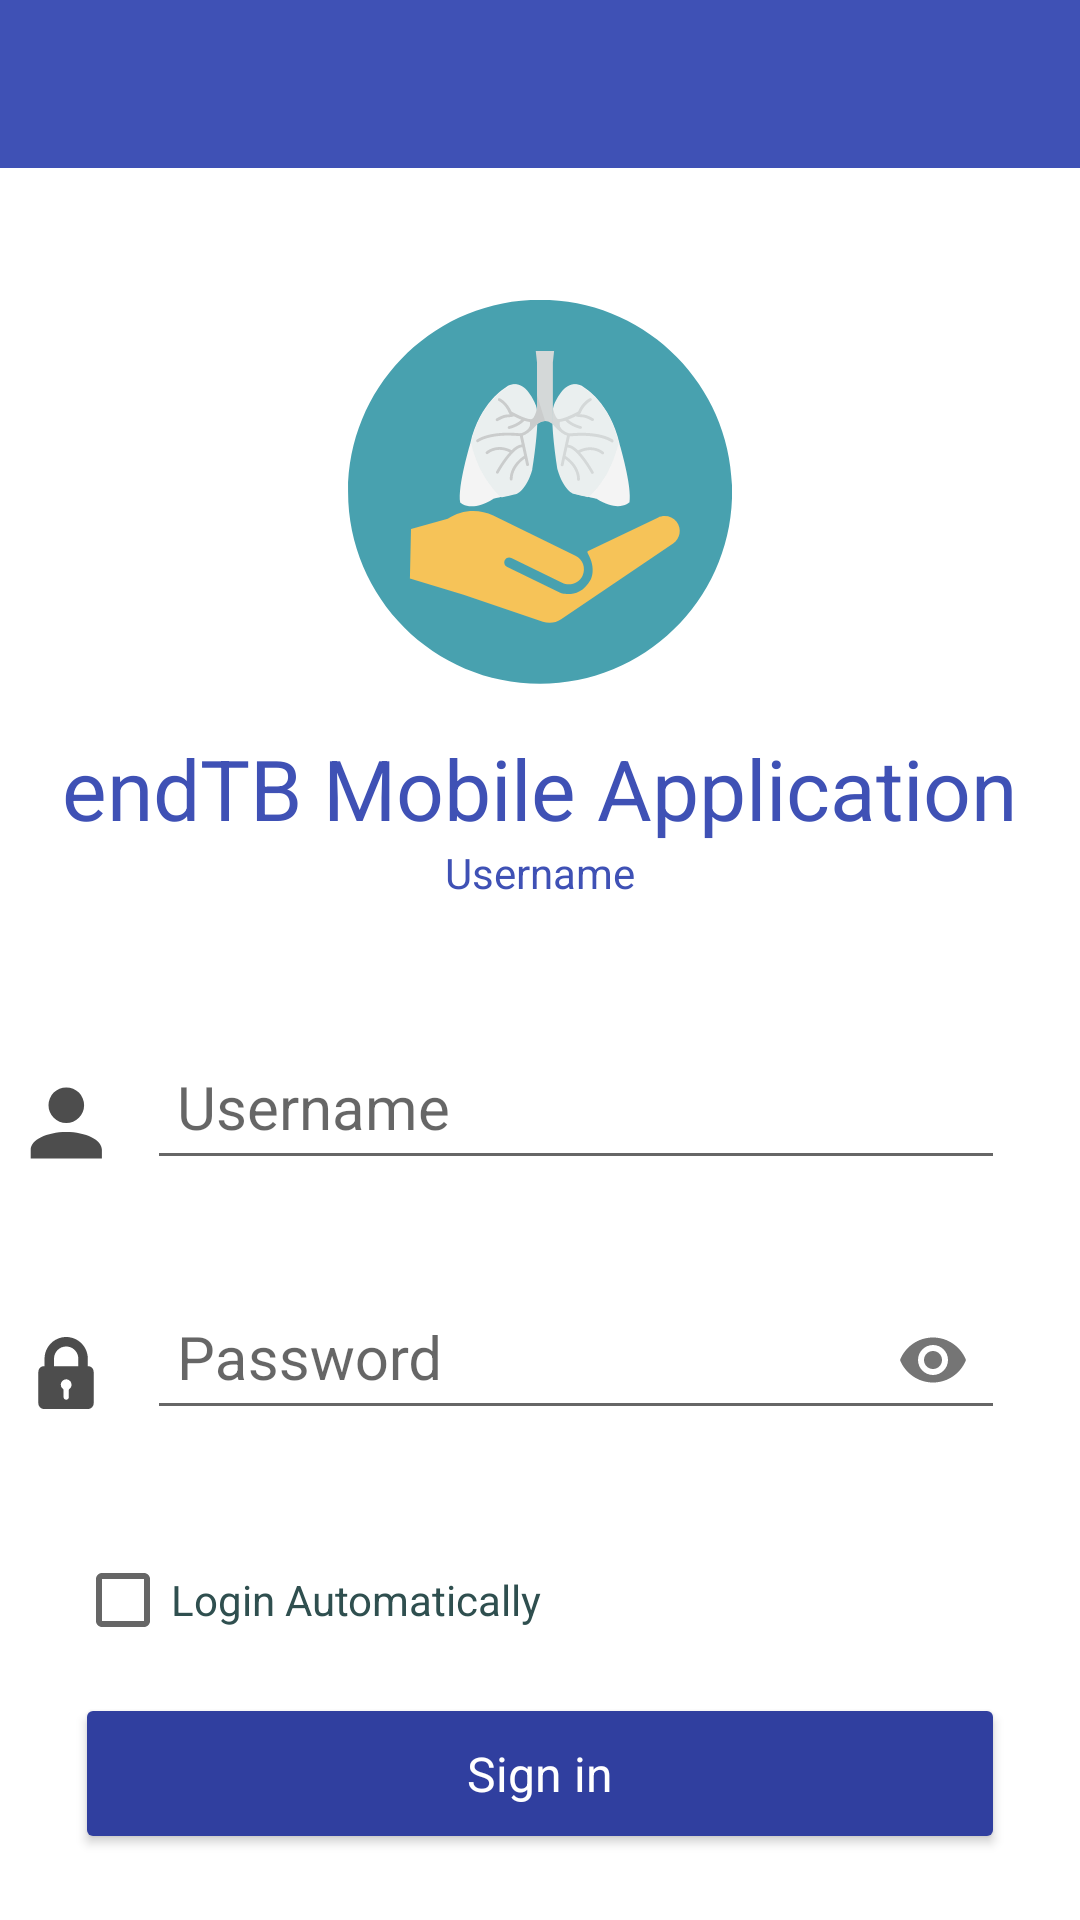

Named icons in this screenshot (1080px×1920px) and their bounding boxes, box=[x1, y1, x2, y2]:
account: box=[30, 1087, 102, 1159]
lock: box=[38, 1337, 94, 1409]
